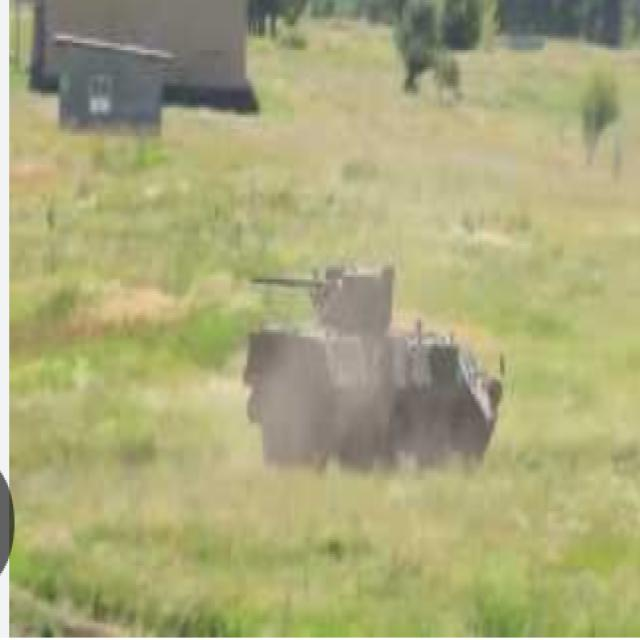MIL_APC: (232, 228, 514, 474)
